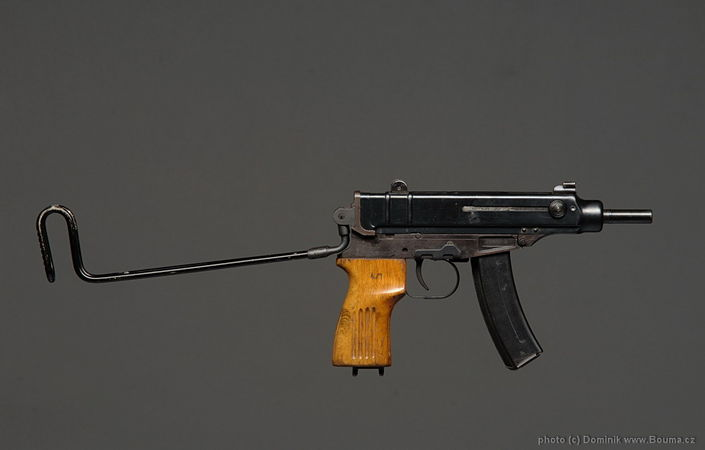rifle: (29, 132, 663, 395)
